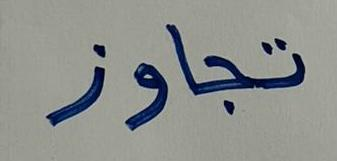alef: (168, 17, 197, 103)
jeem: (199, 42, 249, 126)
teh: (251, 27, 313, 113)
waw: (119, 55, 167, 135)
zain: (38, 30, 115, 136)
